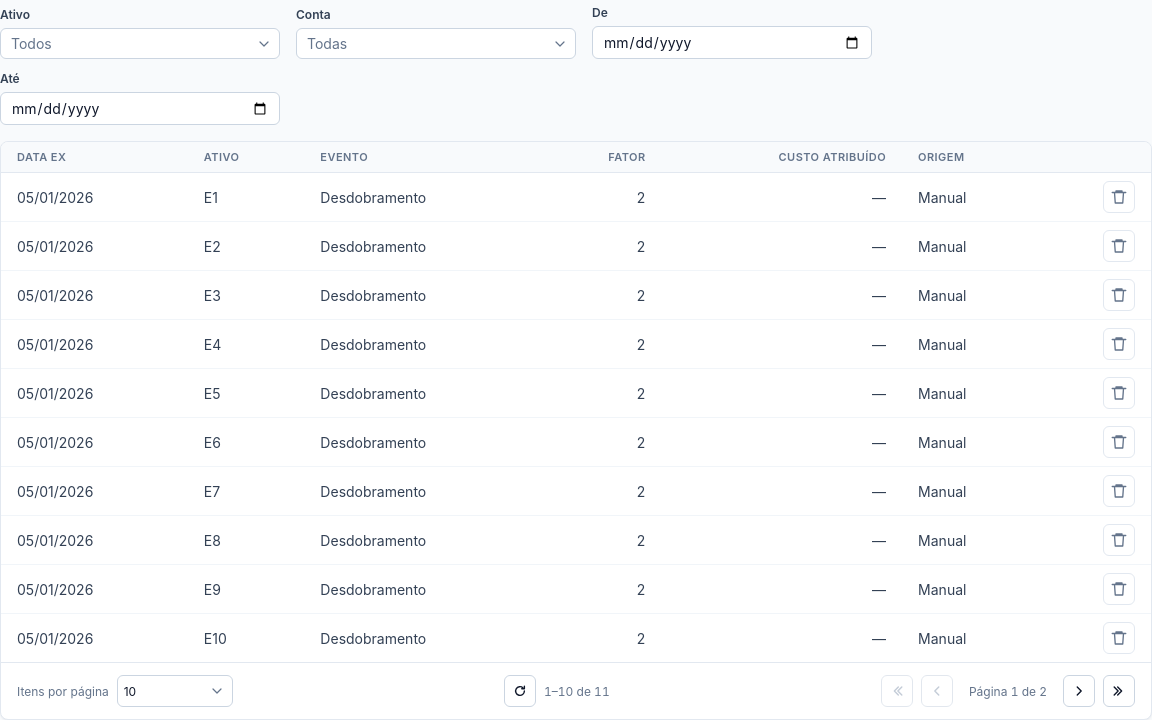
paged ledger › pages corporate events in memory
The image size is (1152, 720).
(page scrolled)
Expected: the text "E10" is shown, [188,614,304,662]
Expected: the text "E11" is not shown
Step 1. Click the button named "Próxima página" → [1079, 691], box [1063,675,1095,707]
(page scrolled)
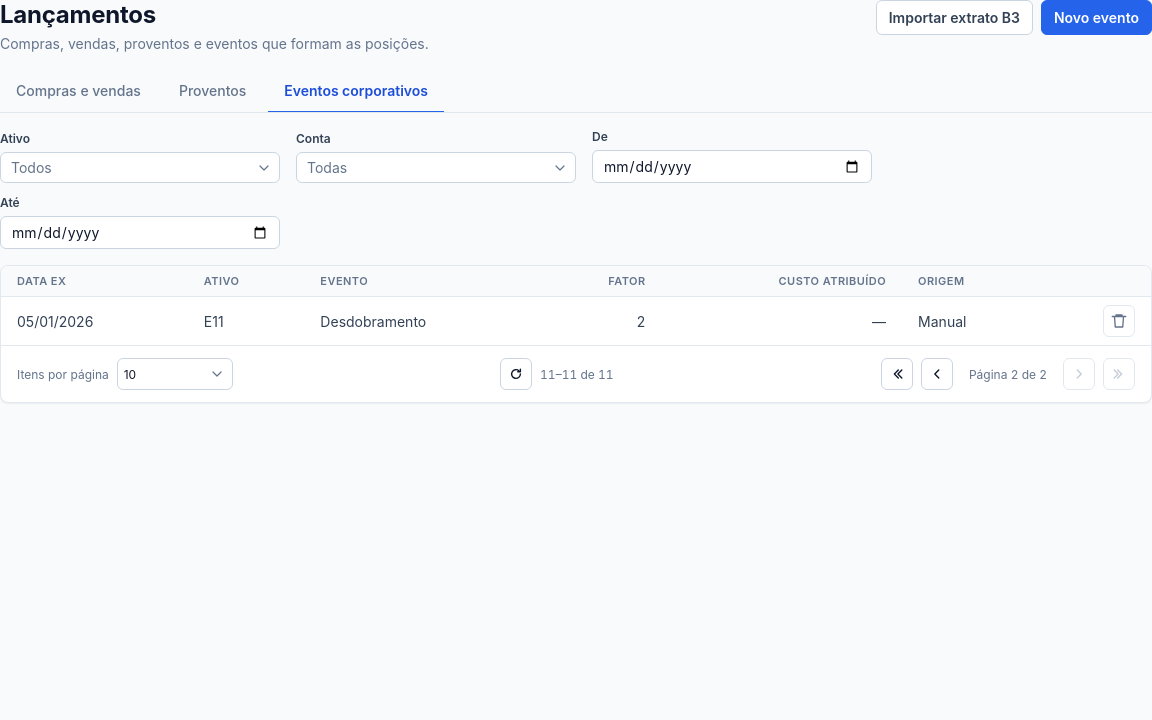
Expected: the text "E11" is shown, [188,296,304,345]
Expected: the text "11–11 de 11" is shown, [540,366,614,382]
